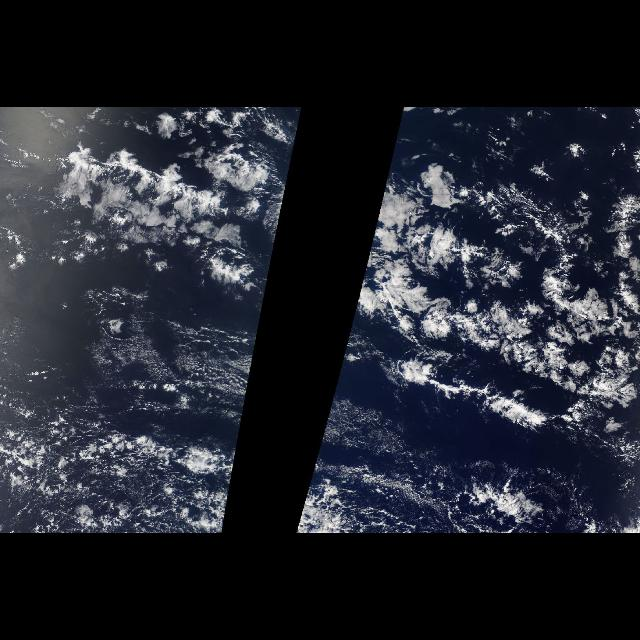Fish: (362, 298, 638, 454)
Sugar: (6, 215, 226, 520)
